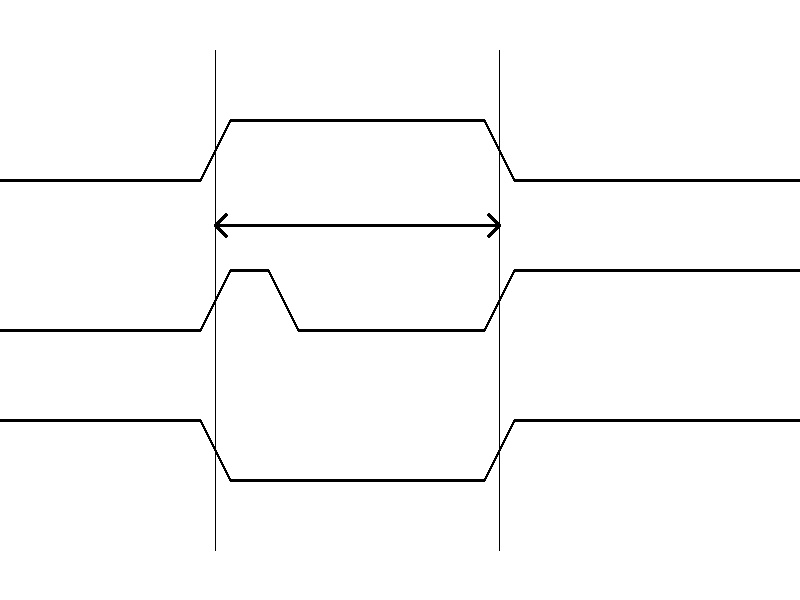double_arrow: (215, 210, 499, 240)
